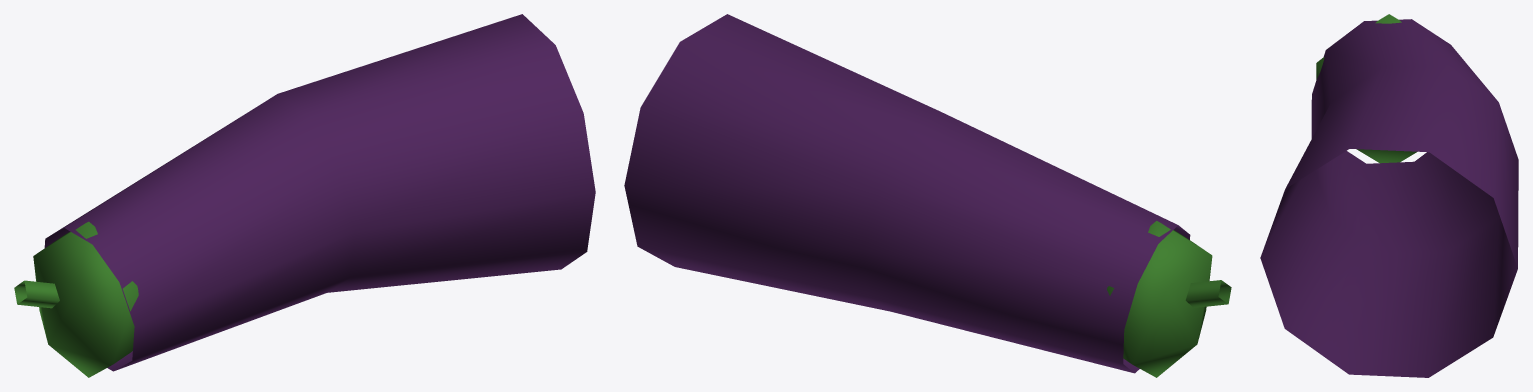
The model's file is item_veg_eggplant.glb.
3 views of the same model, side by side, from view 1: azimuth 30°, elevation 25°; view 2: azimuth 150°, elevation 25°; view 3: azimuth 270°, elevation 25° (orthographic).
Visible parts, largest first — view 1: item_veg_eggplant_gloss, item_veg_eggplant_main; view 2: item_veg_eggplant_gloss, item_veg_eggplant_main; view 3: item_veg_eggplant_gloss, item_veg_eggplant_main.
Part boxes in pixels (x1,y1,x2,y2): item_veg_eggplant_gloss: (44, 14, 595, 371); item_veg_eggplant_main: (14, 221, 138, 377); item_veg_eggplant_gloss: (624, 14, 1190, 373); item_veg_eggplant_main: (1107, 221, 1231, 377); item_veg_eggplant_gloss: (1260, 19, 1518, 377); item_veg_eggplant_main: (1316, 14, 1417, 163).
Bounding box in the file's own units: 0.2366 × 0.1005 × 0.0998.
